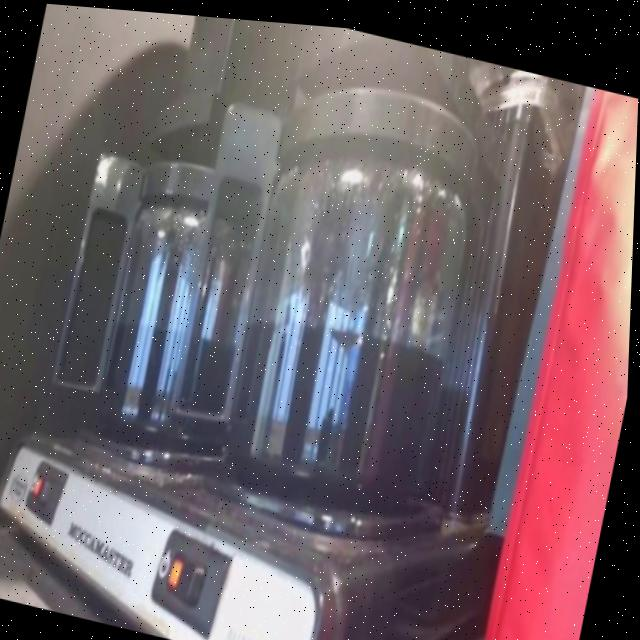coffee: (220, 175, 470, 510), (87, 208, 266, 457)
